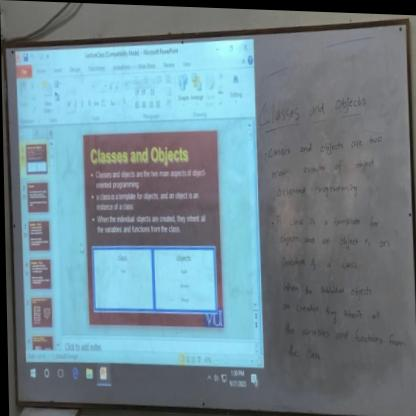Handwritten text: (246, 74, 378, 138), (255, 116, 390, 163), (279, 317, 412, 347), (266, 149, 381, 182), (275, 225, 393, 251), (271, 205, 389, 228), (277, 273, 377, 300), (277, 298, 389, 321), (270, 250, 361, 274), (272, 177, 359, 199), (284, 340, 322, 365)
